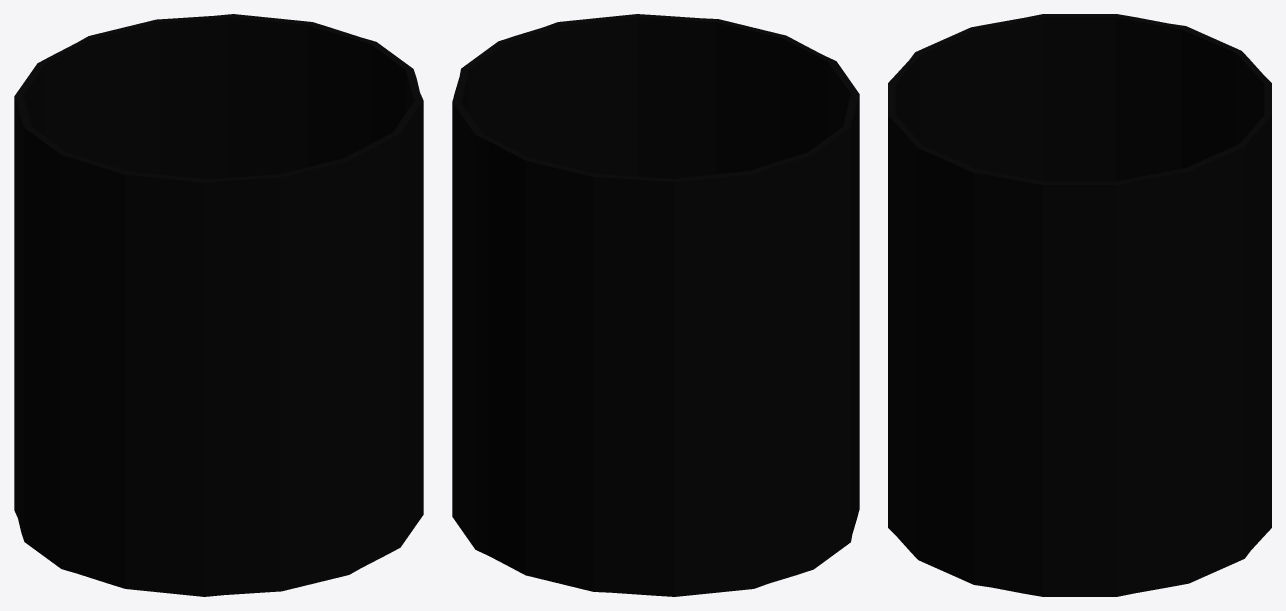
File: Net.glb
3 views of the same model, side by side, from view 1: azimuth 30°, elevation 25°; view 2: azimuth 150°, elevation 25°; view 3: azimuth 270°, elevation 25° (orthographic).
Visible parts, largest first — view 1: Net; view 2: Net; view 3: Net.
Part boxes in pixels (<box>): Net: <box>14,14,423,596</box>; Net: <box>452,14,859,596</box>; Net: <box>888,14,1271,596</box>.
Size of the model in its own units: 1134 by 1274 by 1076.
Materials: 1 (1 with a texture image).
